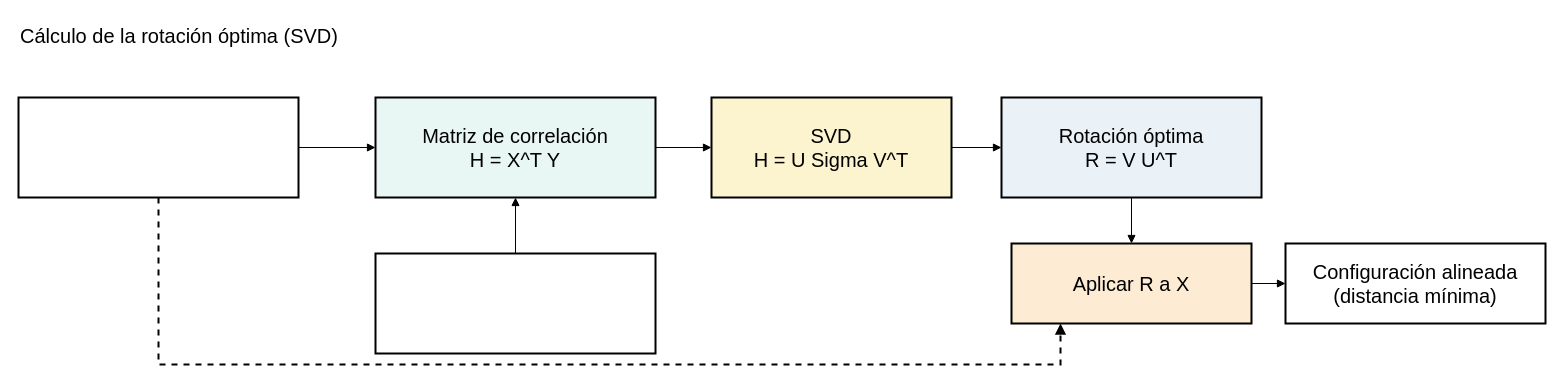
Some shapes in this 1563 by 390 pixel diagram are drawn without their labels. The centre of each missing label's shape, as x and y in pixels:
"Configuración a alinear (Puntos de referencia centrados y escalados)" belongs at point (158, 147).
"Configuración de referencia (forma estándar)" belongs at point (515, 303).
